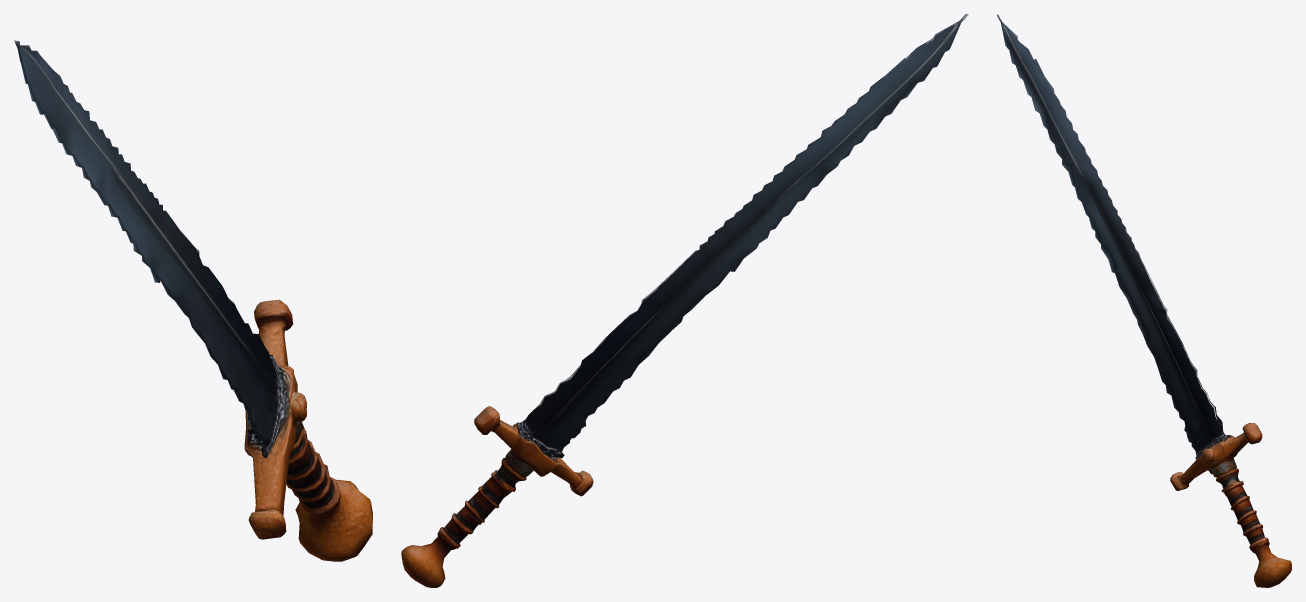
The model's file is rusted_sword.glb.
3 views of the same model, side by side, from view 1: azimuth 30°, elevation 25°; view 2: azimuth 150°, elevation 25°; view 3: azimuth 270°, elevation 25° (orthographic). The views are drawn at different scales.
Visible parts, largest first — view 1: base_model_path; view 2: base_model_path; view 3: base_model_path.
Part boxes in pixels (x1,y1,x2,y2): base_model_path: (14, 40, 372, 561); base_model_path: (401, 14, 968, 587); base_model_path: (997, 14, 1291, 587).
Bounding box in the file's own units: 0.7654 × 1 × 0.6225.
1 material, 1 textured.
